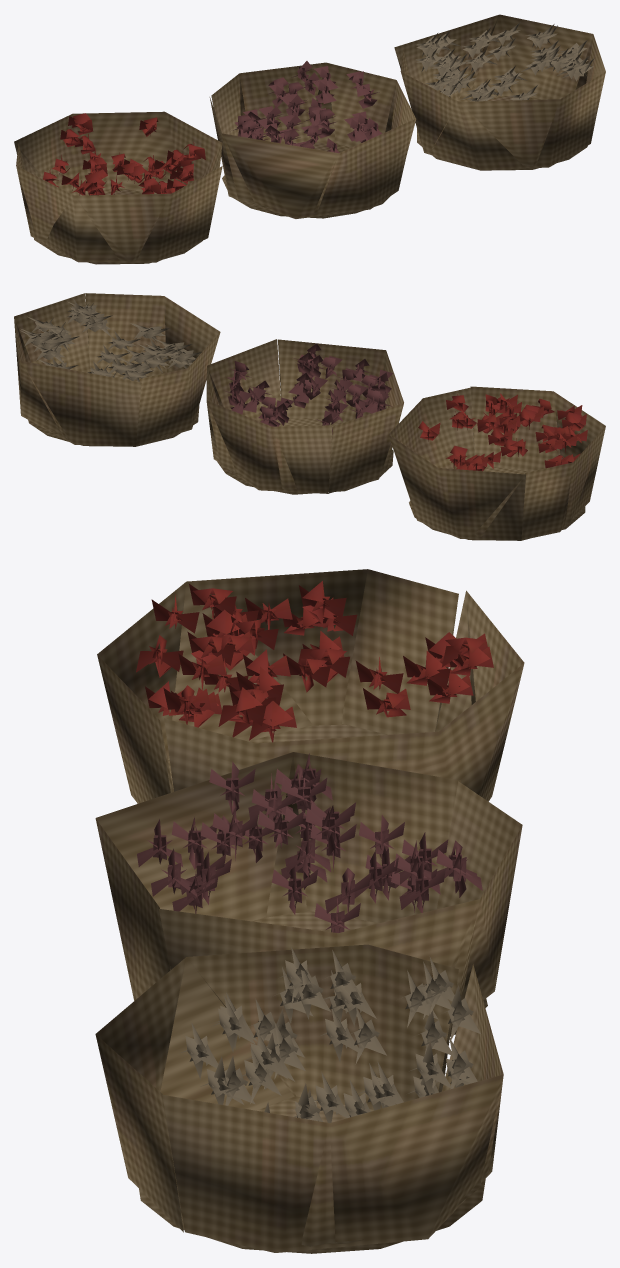
The model's file is W18_VegetableBaskets.glb.
3 views of the same model, one above another, from view 1: azimuth 30°, elevation 25°; view 2: azimuth 150°, elevation 25°; view 3: azimuth 270°, elevation 25° (orthographic). The views are drawn at different scales.
Parts seen in each view (by area): view 1: W18_VegetableBaskets; view 2: W18_VegetableBaskets; view 3: W18_VegetableBaskets.
Part boxes in pixels (x1,y1,x2,y2): W18_VegetableBaskets: (14, 14, 605, 264); W18_VegetableBaskets: (14, 293, 605, 540); W18_VegetableBaskets: (95, 569, 524, 1253).
Size of the model in its own units: 0.489 by 0.0723 by 0.16.
Materials: 4 (4 with a texture image).
